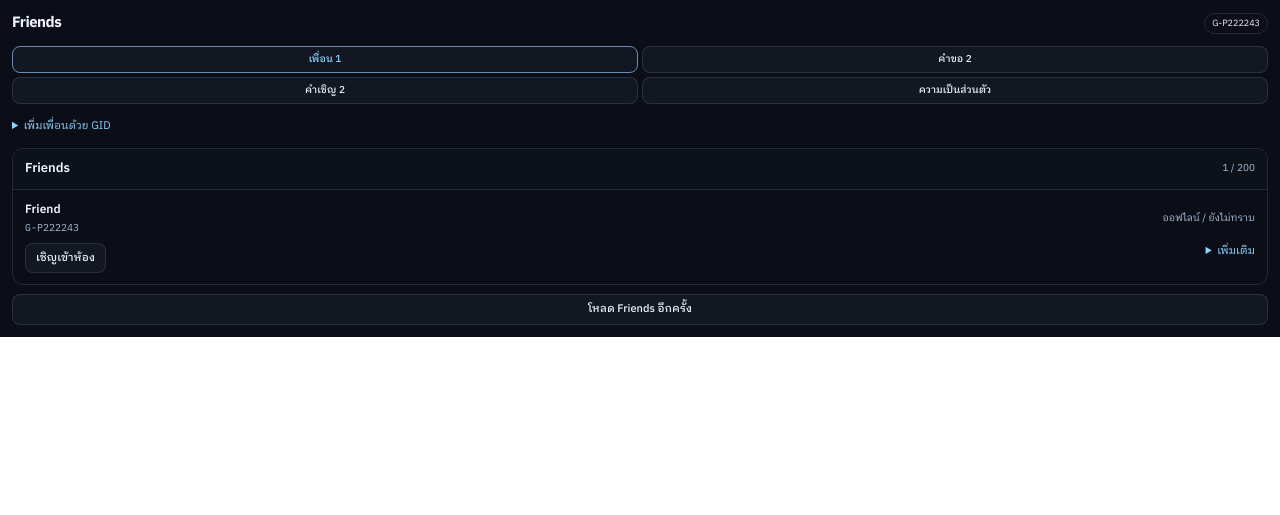
Scenario: discloses canonical relay and remaining invitation expiry, and resets consent when navigating away
What coordinates should you click on to do the following:
click the button "คำเชิญ 2"
I would click on:
 (325, 90)
Its box is [12,76,638,104].
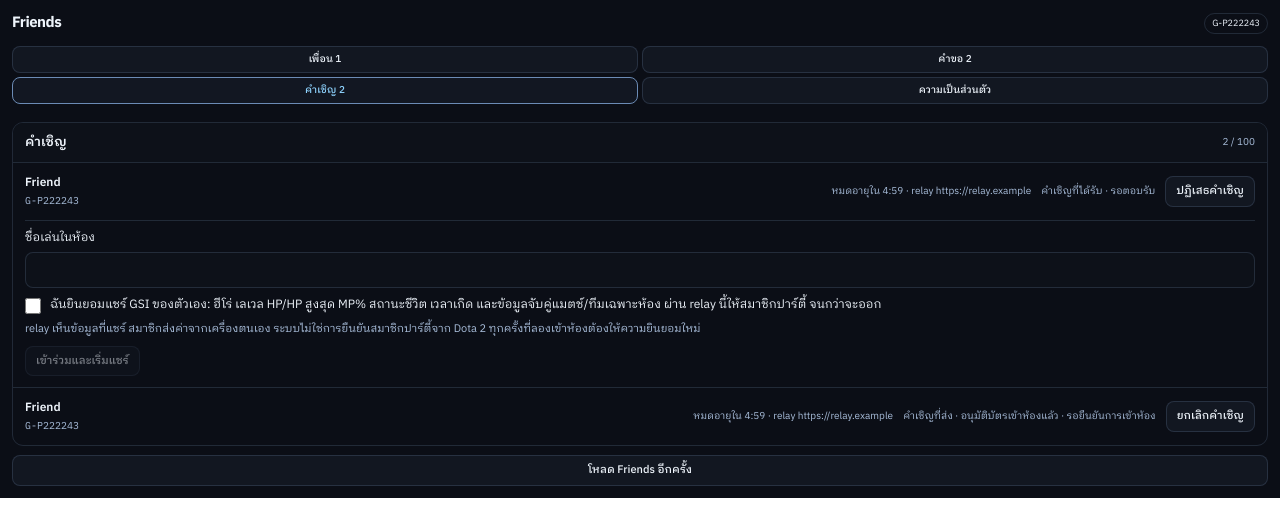
Check: the text "https://relay.example" is shown, box [936,183,1031,199]
Check: the text "4:59" is shown, box [831,184,1031,199]
What coordinates should you click on to do the following:
click the checkbox named "inviteConsent"
I would click on:
 (33, 306)
Its box is [25,298,41,314].
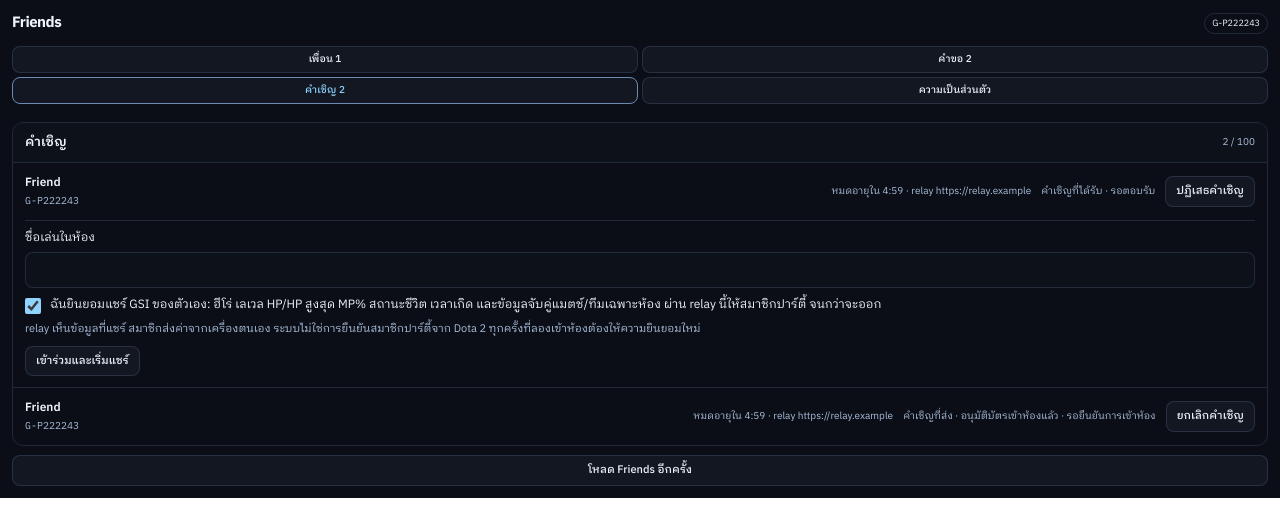
Check: the checkbox named "inviteConsent" is checked, box [25,298,41,314]
What coordinates should you click on to do the following:
click the button "เพื่อน 1"
I would click on:
 (325, 59)
Its box is [12,46,638,72].
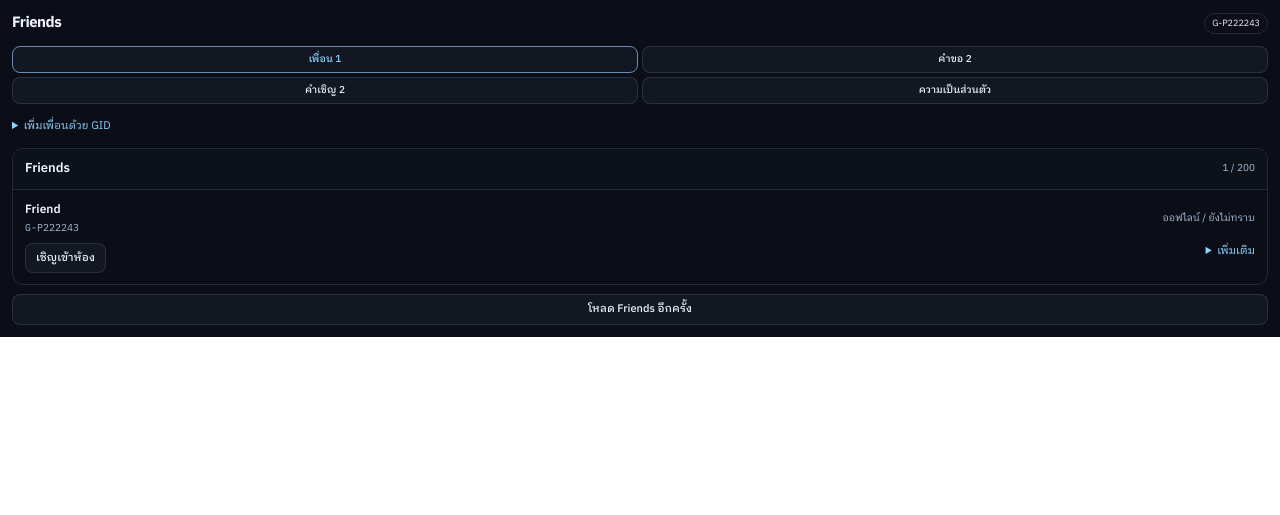
What coordinates should you click on to do the following:
click the button "คำเชิญ 2"
I would click on:
 (325, 90)
Its box is [12,76,638,104].
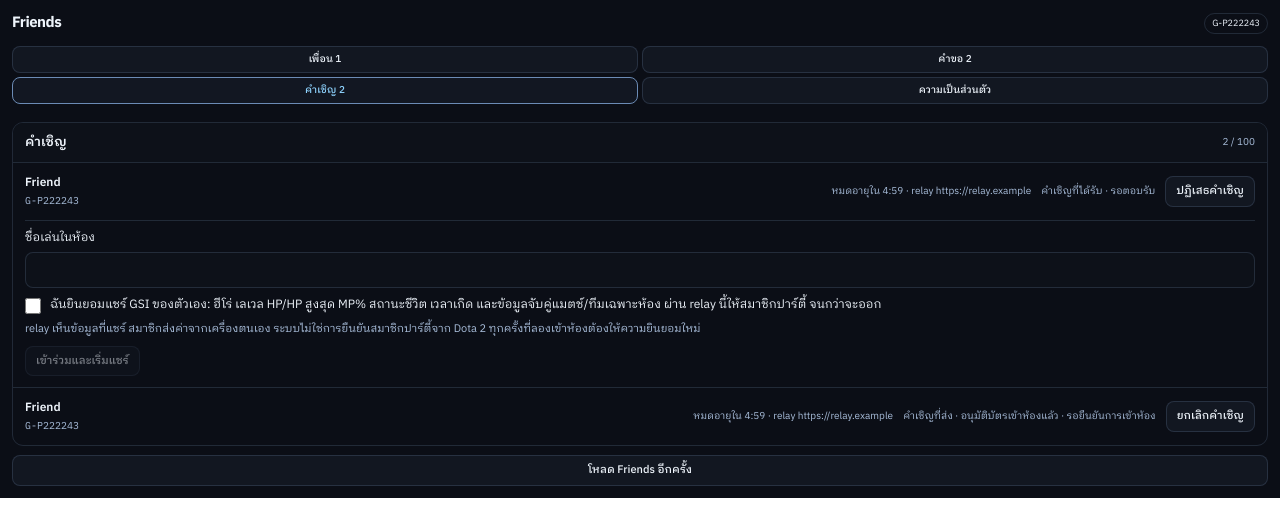
Check: the checkbox named "inviteConsent" is not checked, box [25,298,41,314]
